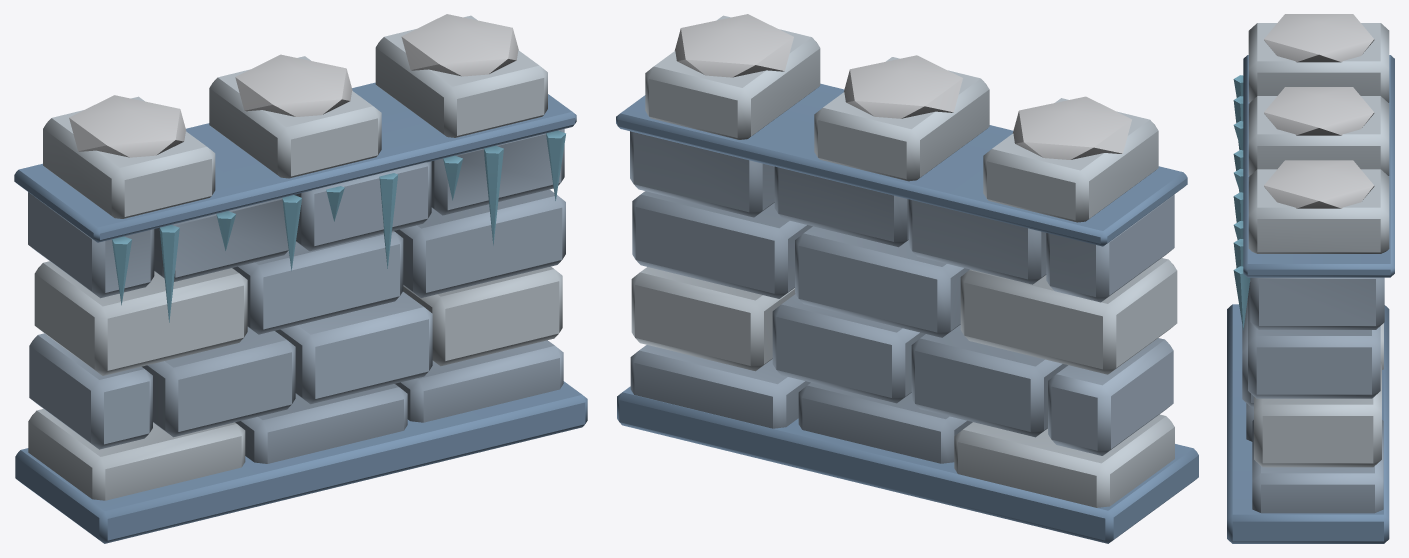
File: mt_wall_3.glb
3 renders of one model, left to right at view 1: azimuth 30°, elevation 25°; view 2: azimuth 150°, elevation 25°; view 3: azimuth 270°, elevation 25°, orthographic. The views are drawn at different scales.
Parts seen in each view (by area): view 1: body; view 2: body; view 3: body.
Boxes of the visible parts, box(x1,y1,x2,y2) form: body: box(14, 14, 587, 543); body: box(616, 14, 1198, 543); body: box(1227, 14, 1394, 543).
Size of the model in its own units: 4.7 by 3.5 by 1.55.
